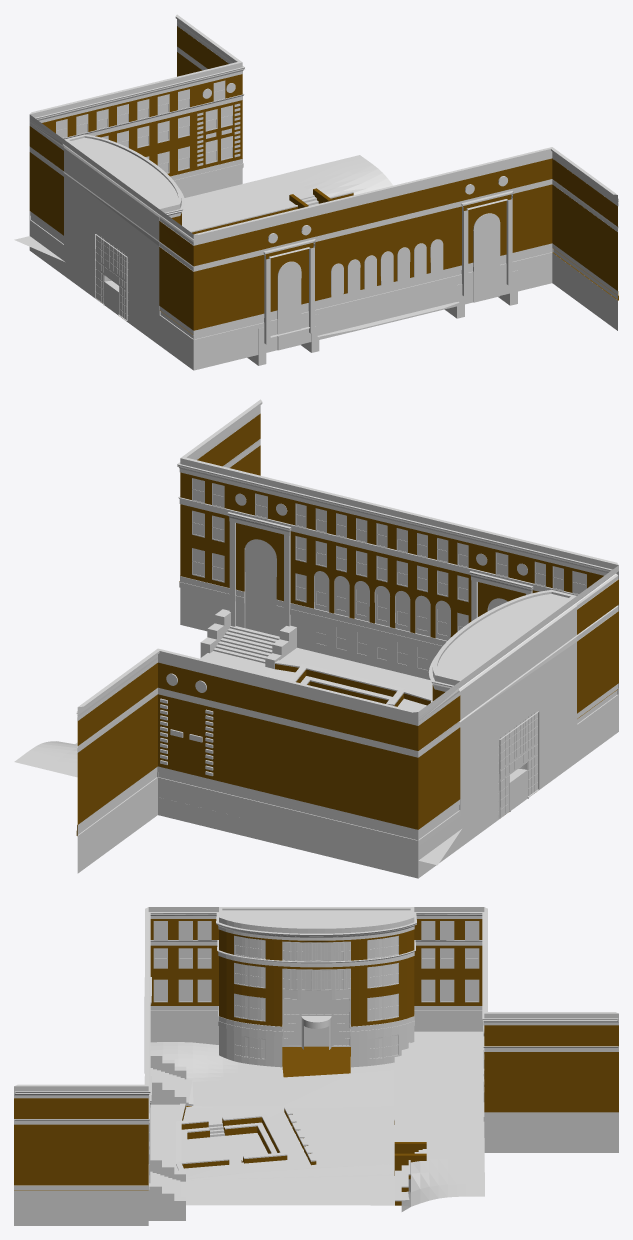
Rendered from cech entrance -joined-FINAL tris.fbx.
3 views of the same model, one above another, from view 1: azimuth 30°, elevation 25°; view 2: azimuth 150°, elevation 25°; view 3: azimuth 270°, elevation 25° (orthographic). The views are drawn at different scales.
Parts seen in each view (by area): view 1: 00building-no-windows-bricks.002; view 2: 00building-no-windows-bricks.002; view 3: 00building-no-windows-bricks.002.
Part boxes in pixels (x1,y1,x2,y2): 00building-no-windows-bricks.002: (14, 14, 618, 370); 00building-no-windows-bricks.002: (14, 399, 618, 878); 00building-no-windows-bricks.002: (14, 907, 618, 1225).
Bounding box in the file's own units: 23544 × 8873 × 32019.
